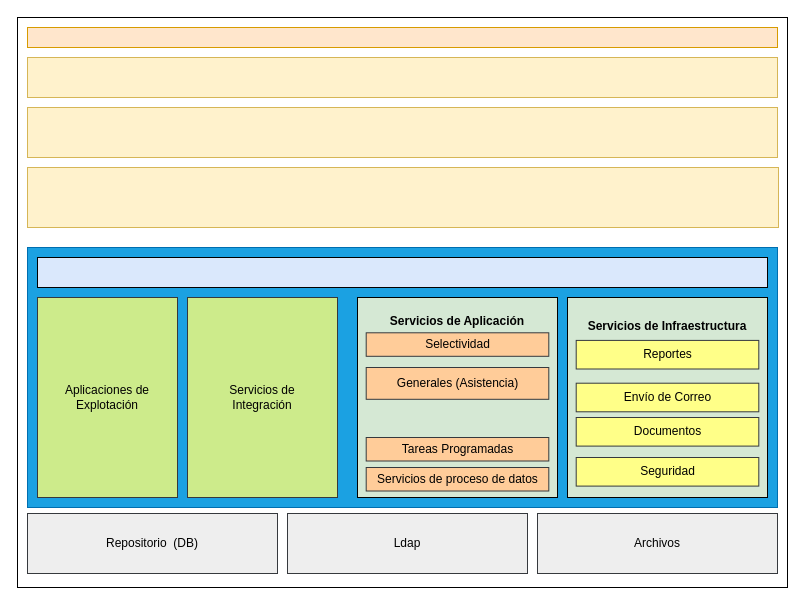
Some shapes in this 805 by 605 pixel diagram are drawn without their labels. The centre of each missing label's shape, as x and y in pixels:
"Gobierno / Ciudadanos" belongs at [402,37].
"Interfaces de servicios" belongs at [402,272].
"Lineas de Negocio" belongs at [402,77].
"Procesos de Negocios" belongs at [402,197].
"Servicios de Negocio" belongs at [402,132].
